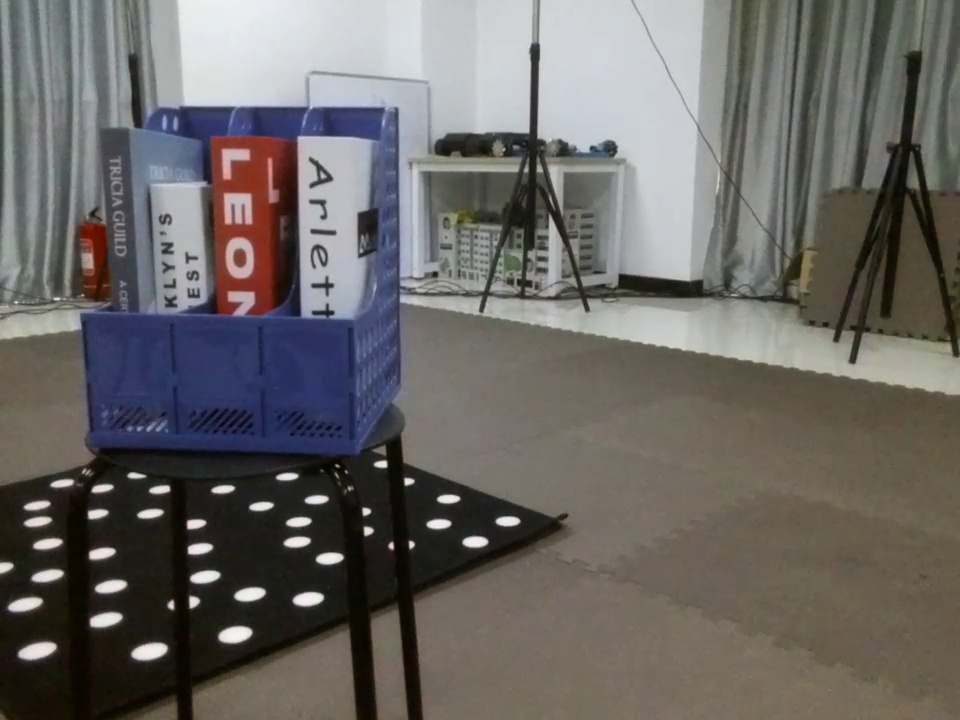files: (70, 96, 408, 471)
